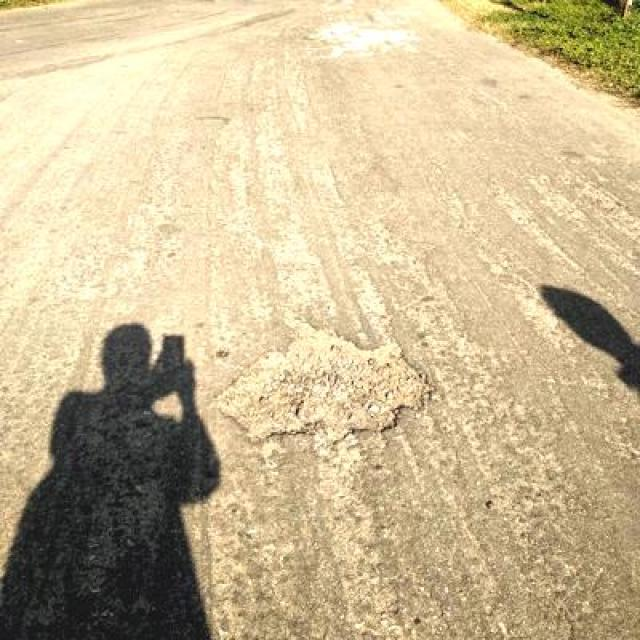pothole: (206, 317, 437, 446)
